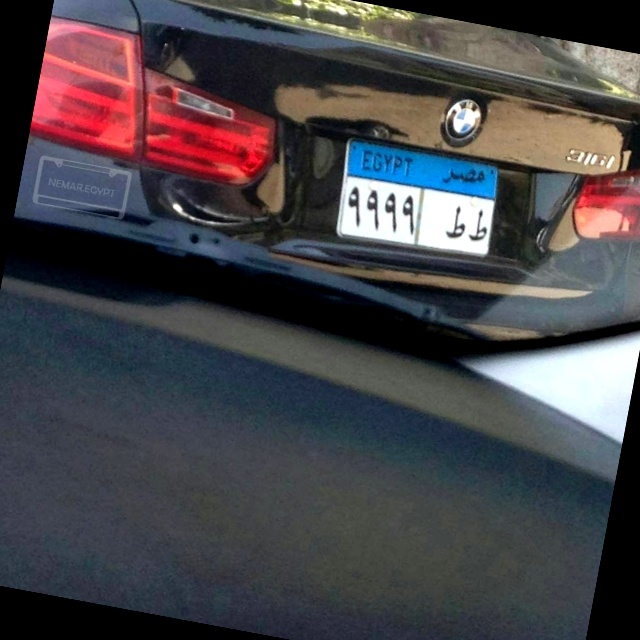License Plate: (326, 132, 508, 268)
